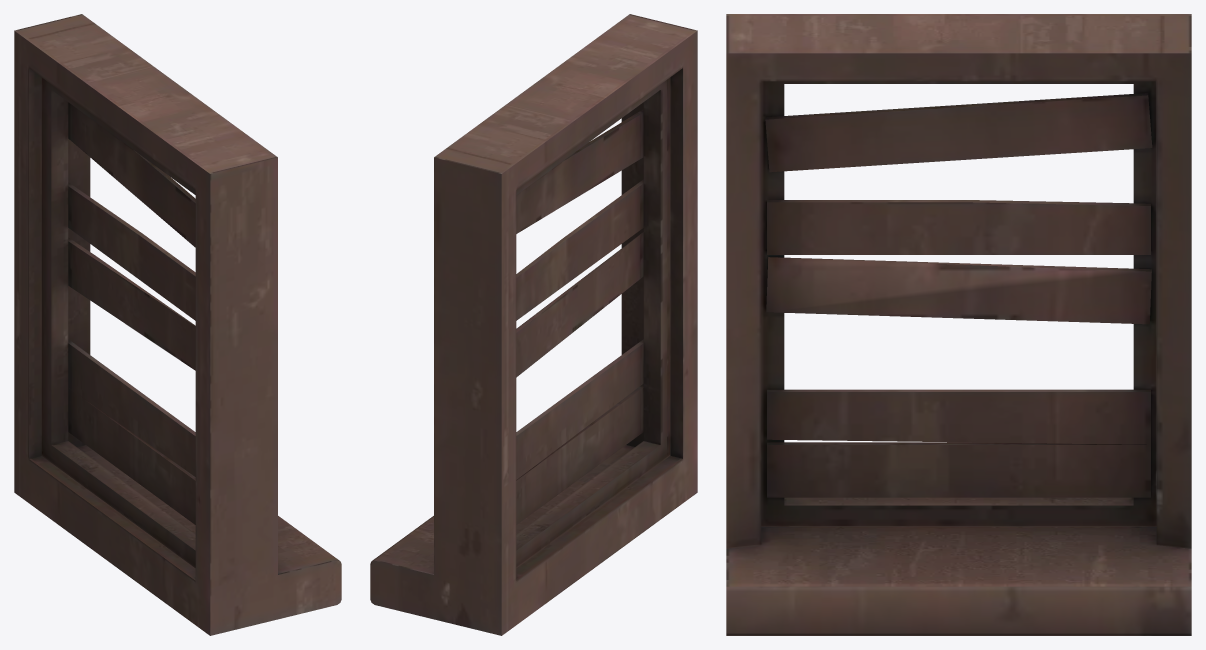
The picture shows the model from 3 angles, left to right: view 1: azimuth 30°, elevation 25°; view 2: azimuth 150°, elevation 25°; view 3: azimuth 270°, elevation 25°; orthographic projection. The views are drawn at different scales.
Parts seen in each view (by area): view 1: body0_model0_lod0_mesh0; view 2: body0_model0_lod0_mesh0; view 3: body0_model0_lod0_mesh0.
Part boxes in pixels (left/top/right/bottom): body0_model0_lod0_mesh0: left=14, top=14, right=341, bottom=635; body0_model0_lod0_mesh0: left=370, top=14, right=697, bottom=635; body0_model0_lod0_mesh0: left=726, top=14, right=1191, bottom=635.
Bounding box in the file's own units: 15.5 × 52 × 40.
1 material, 1 textured.
